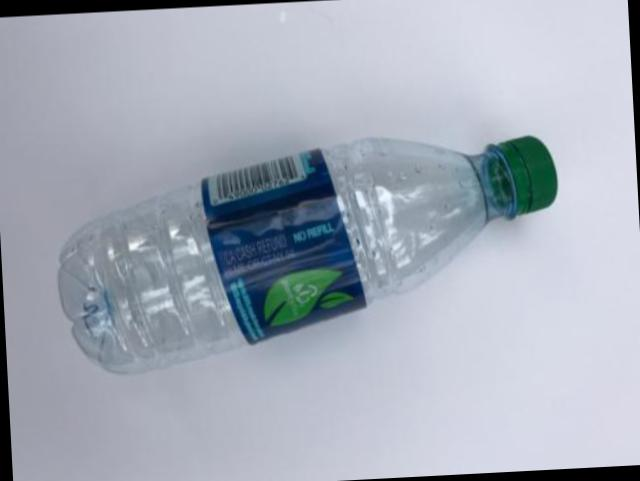plastic: (59, 138, 558, 374)
